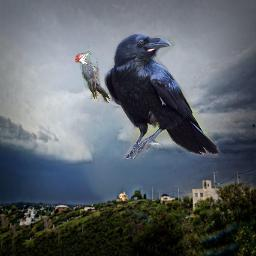Crow: (104, 32, 221, 159)
Woodpecker: (75, 51, 110, 103)
